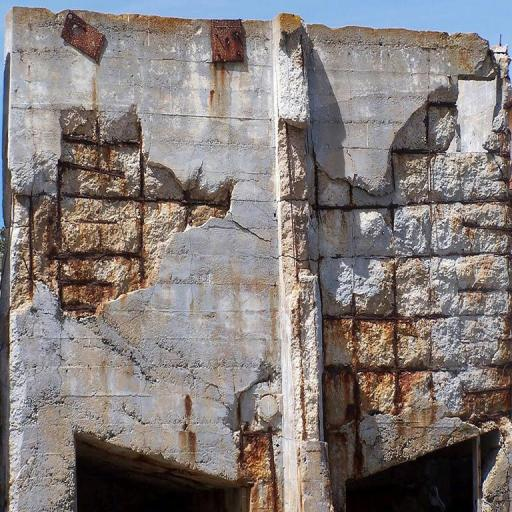spalling: (316, 103, 510, 443), (12, 104, 240, 328), (219, 365, 287, 509)
